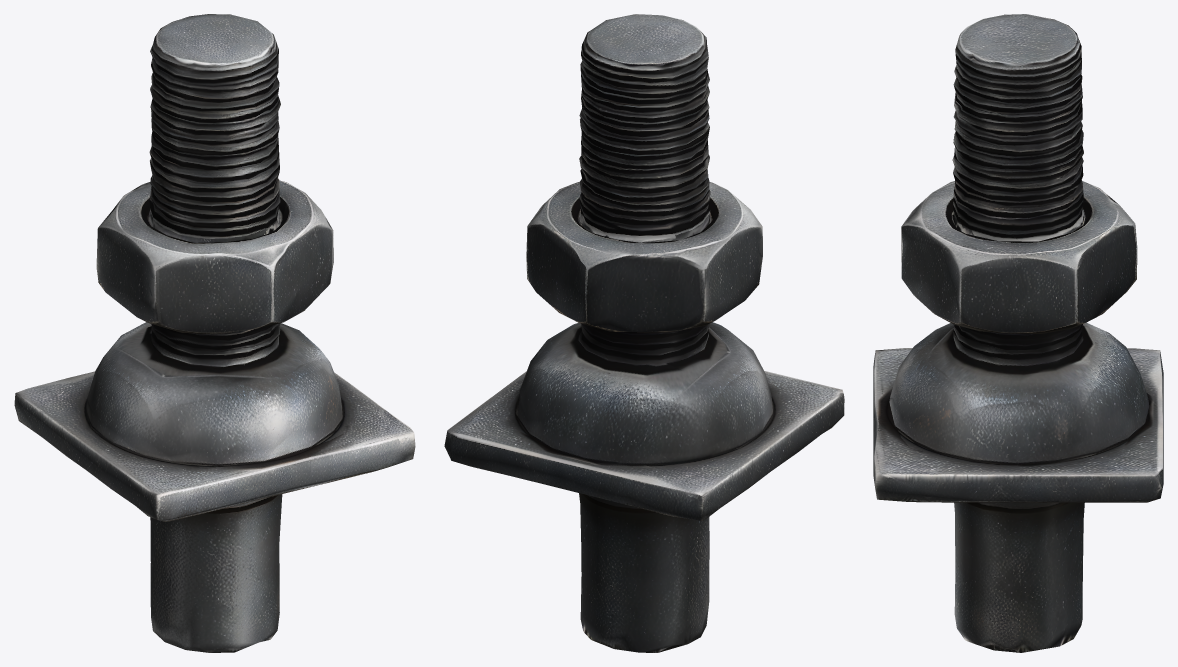
Rendered from scrap_Bolt.fbx.
3 renders of one model, left to right at view 1: azimuth 30°, elevation 25°; view 2: azimuth 150°, elevation 25°; view 3: azimuth 270°, elevation 25°, orthographic.
Visible parts, largest first — view 1: input; view 2: input; view 3: input.
Part boxes in pixels (x1=…): input: x1=14, y1=14, x2=415, y2=652; input: x1=444, y1=14, x2=844, y2=652; input: x1=873, y1=14, x2=1163, y2=652.
Bounding box in the file's own units: 46.32 × 99.94 × 44.54.
1 material, 1 textured.
